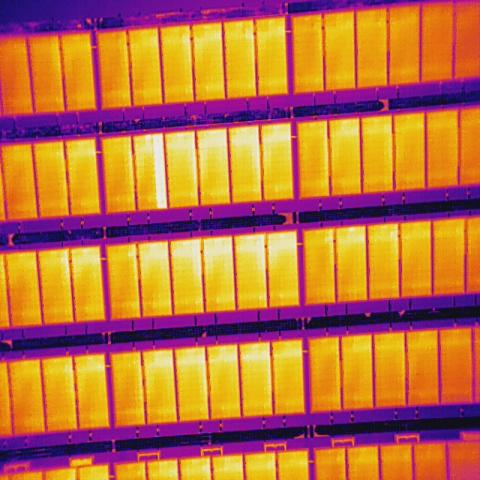fault: (153, 132, 167, 208)
